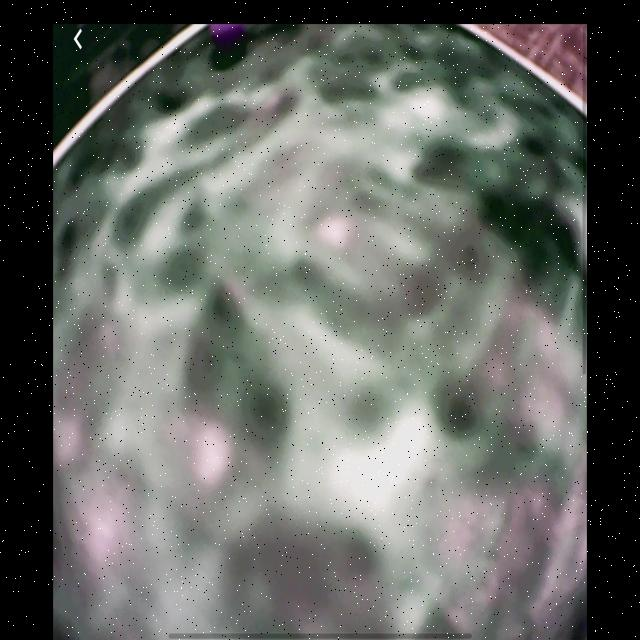ball: (209, 23, 246, 50)
